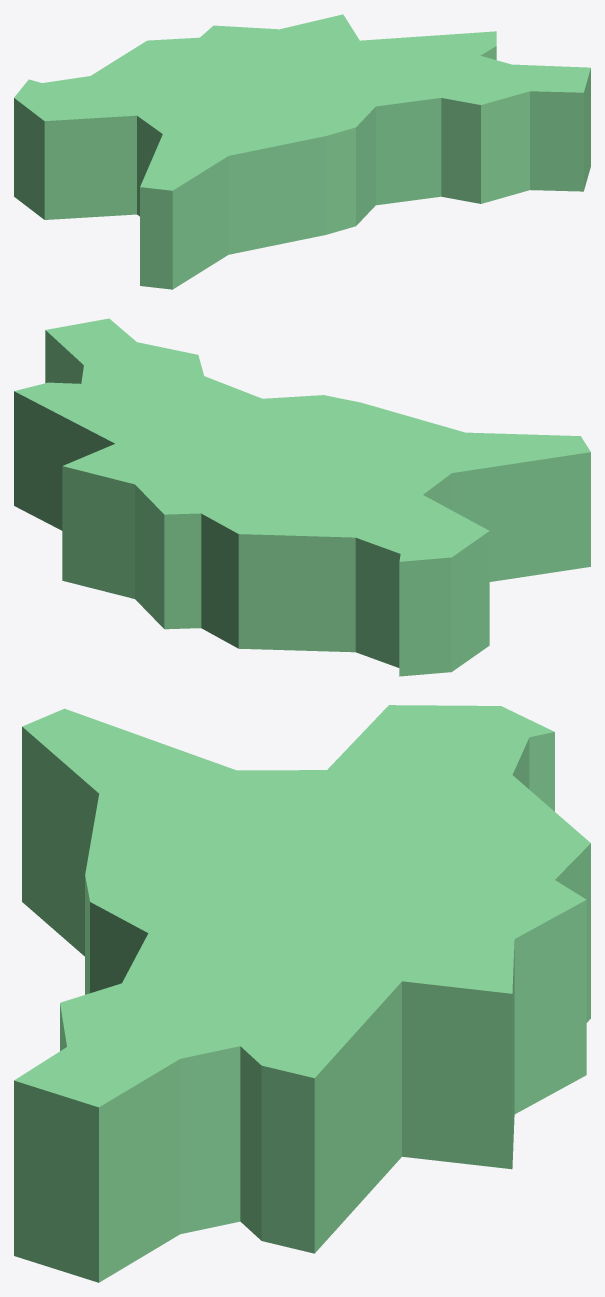
File: Georgia_Tbilisi.fbx
The picture shows the model from 3 angles, top to bottom: view 1: azimuth 30°, elevation 25°; view 2: azimuth 150°, elevation 25°; view 3: azimuth 270°, elevation 25°; orthographic projection. The views are drawn at different scales.
Visible parts, largest first — view 1: Tbilisi; view 2: Tbilisi; view 3: Tbilisi.
Part boxes in pixels (x1,y1,x2,y2): Tbilisi: (14, 14, 590, 289); Tbilisi: (14, 318, 590, 676); Tbilisi: (14, 705, 590, 1282).
Size of the model in its own units: 6.44 by 1.31 by 3.9.
